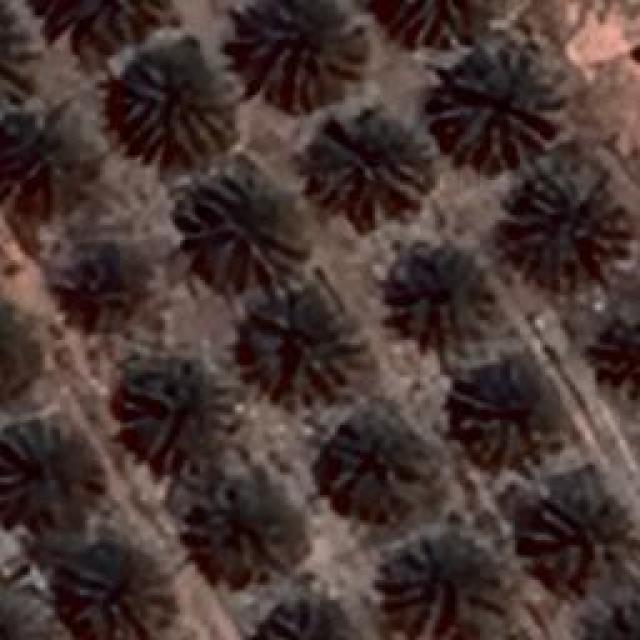PalmTree: (19, 55, 100, 479), (427, 47, 555, 175), (504, 160, 628, 278), (238, 0, 368, 110), (310, 100, 430, 210), (245, 290, 370, 395), (178, 172, 298, 280), (118, 40, 232, 150), (127, 360, 240, 460), (49, 548, 169, 636), (188, 491, 304, 581), (386, 550, 504, 638), (525, 490, 633, 580), (390, 246, 490, 342), (325, 415, 425, 510), (0, 105, 92, 200), (58, 234, 148, 326), (464, 370, 554, 452), (36, 0, 168, 38), (372, 0, 488, 41), (252, 600, 356, 640), (595, 310, 640, 396), (0, 294, 36, 398), (0, 587, 50, 640), (583, 596, 640, 640)
